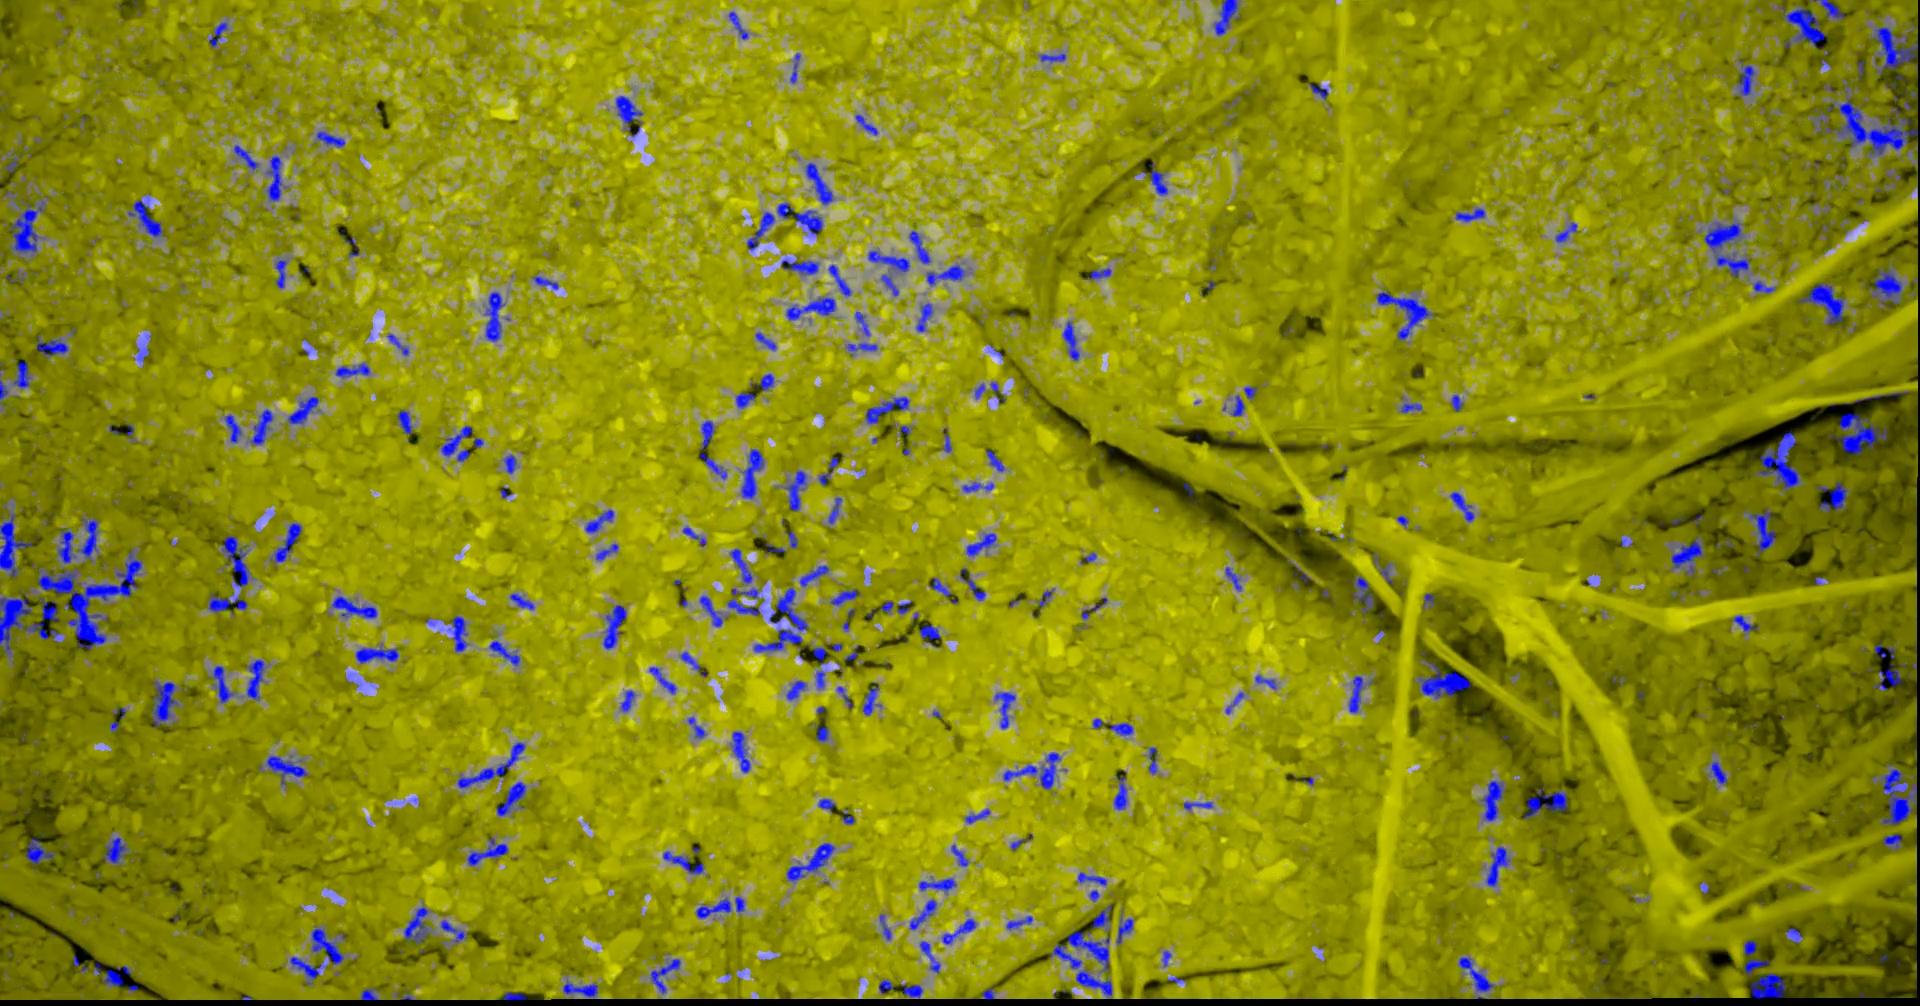ant: (745, 202, 822, 250), (753, 587, 808, 652), (1049, 942, 1111, 996), (456, 742, 524, 788), (1377, 290, 1435, 339), (1703, 222, 1749, 277), (1870, 25, 1919, 75), (1002, 752, 1060, 788), (1797, 282, 1843, 326), (0, 513, 32, 577), (8, 198, 44, 253), (1418, 661, 1470, 699), (1780, 5, 1825, 48), (786, 842, 834, 882), (57, 517, 98, 563), (1065, 930, 1109, 970), (698, 420, 726, 479), (221, 533, 251, 586), (1458, 956, 1495, 998), (1523, 786, 1567, 818), (127, 199, 163, 238), (1867, 268, 1901, 307), (1749, 507, 1775, 556), (269, 522, 301, 563), (1670, 536, 1702, 575), (265, 754, 306, 784), (865, 396, 909, 423), (439, 426, 472, 461), (785, 296, 836, 319), (151, 681, 177, 727), (615, 95, 643, 136), (466, 837, 507, 865), (740, 448, 763, 498), (311, 929, 343, 964), (805, 163, 832, 205), (650, 958, 681, 993), (331, 594, 376, 619), (602, 605, 626, 649), (403, 904, 429, 942), (484, 291, 504, 340), (495, 781, 524, 815), (1484, 846, 1509, 887), (1347, 575, 1373, 614), (1750, 972, 1785, 998), (1743, 939, 1769, 976), (1481, 780, 1503, 821), (1816, 481, 1848, 511), (662, 851, 703, 873), (1213, 0, 1238, 36), (290, 956, 321, 984), (959, 567, 985, 600), (785, 470, 806, 511), (1142, 161, 1167, 196), (941, 918, 975, 944), (728, 588, 759, 615), (250, 408, 273, 445), (869, 250, 909, 271), (287, 396, 317, 423), (488, 640, 519, 666), (211, 666, 232, 702), (648, 666, 676, 694), (1873, 663, 1902, 690), (25, 837, 55, 864), (909, 899, 936, 929), (926, 264, 964, 285), (207, 593, 248, 612), (729, 547, 750, 583), (695, 897, 730, 918), (698, 594, 723, 626), (265, 155, 282, 201), (36, 334, 69, 357), (731, 730, 749, 772), (1449, 492, 1474, 521), (245, 659, 263, 700), (994, 692, 1015, 728), (908, 230, 930, 263), (102, 836, 128, 862), (448, 615, 467, 652), (1062, 320, 1079, 359), (828, 264, 851, 295), (356, 647, 397, 663), (1736, 58, 1754, 95), (232, 145, 258, 170), (585, 509, 613, 532), (439, 920, 467, 942), (966, 533, 996, 555), (919, 941, 940, 972), (681, 652, 706, 676), (1812, 0, 1844, 19), (818, 456, 838, 485), (799, 565, 828, 586), (780, 259, 818, 274), (1081, 597, 1107, 619), (102, 965, 130, 986), (563, 979, 597, 996), (862, 682, 880, 714), (1112, 770, 1126, 809), (1854, 391, 1907, 401), (728, 11, 747, 39), (1349, 674, 1363, 713), (918, 876, 956, 890), (335, 362, 370, 377), (223, 414, 241, 442), (919, 624, 941, 647), (916, 302, 932, 332), (386, 333, 408, 354), (855, 114, 877, 135), (682, 526, 705, 546), (1091, 904, 1111, 927), (316, 131, 344, 147), (13, 359, 29, 387), (208, 22, 227, 46), (830, 588, 857, 605), (985, 448, 1004, 471), (844, 342, 877, 354), (1556, 222, 1576, 243), (786, 680, 806, 700), (754, 332, 776, 351), (1225, 691, 1244, 713), (1455, 207, 1484, 221), (950, 843, 968, 866), (1116, 916, 1131, 942), (1733, 615, 1757, 631), (396, 409, 411, 434), (931, 577, 951, 596), (964, 808, 989, 823), (687, 716, 705, 738), (596, 542, 618, 559), (1010, 833, 1032, 850), (1006, 915, 1032, 929), (1077, 873, 1106, 885), (1225, 567, 1241, 591), (509, 593, 533, 608), (880, 274, 898, 295), (762, 536, 783, 553), (836, 686, 852, 708), (1710, 761, 1727, 782), (828, 497, 841, 523), (533, 276, 557, 290), (855, 311, 869, 335), (620, 690, 635, 711), (1109, 721, 1131, 735), (789, 52, 799, 83), (276, 257, 286, 287), (963, 481, 993, 492), (1873, 644, 1895, 658), (1255, 674, 1276, 688), (1309, 83, 1327, 99), (756, 373, 773, 390), (811, 647, 828, 664), (1752, 279, 1775, 292), (735, 391, 754, 406), (1882, 833, 1901, 848), (1230, 395, 1244, 415), (879, 915, 890, 939), (1037, 588, 1053, 606), (1380, 563, 1393, 583), (902, 984, 922, 997), (1785, 927, 1802, 942), (72, 954, 88, 970), (5, 152, 18, 171), (503, 453, 516, 473), (817, 798, 836, 810), (841, 808, 855, 824), (1040, 53, 1065, 62), (815, 723, 828, 741), (1090, 268, 1111, 278), (502, 991, 526, 1000), (1183, 801, 1211, 809), (877, 979, 893, 993), (361, 987, 377, 1000), (0, 379, 8, 405), (1451, 394, 1463, 412), (1148, 747, 1156, 774), (1399, 403, 1421, 412), (787, 530, 797, 547), (897, 601, 910, 614), (137, 345, 149, 361), (815, 669, 824, 688), (734, 895, 744, 911), (1243, 386, 1256, 398), (982, 987, 994, 998), (1423, 593, 1434, 606)
